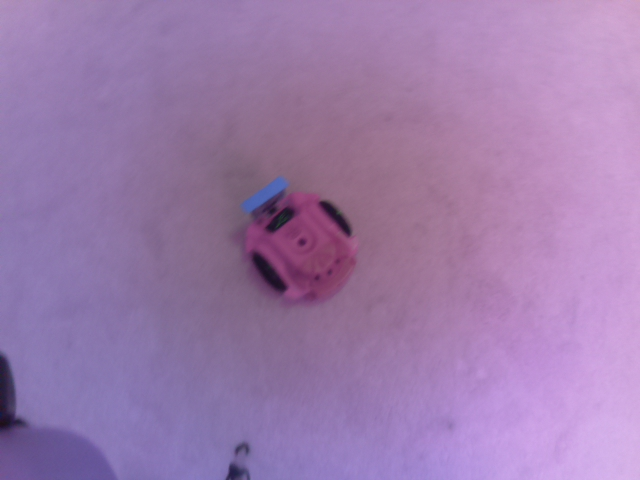board: (242, 169, 287, 223)
chassis: (240, 169, 361, 304)
